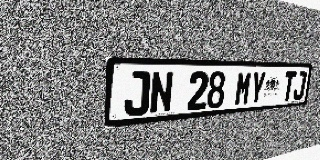2: (187, 71, 209, 111)
8: (206, 71, 227, 109)
J: (124, 71, 151, 117), (292, 72, 307, 100)
M: (234, 71, 253, 106)
N: (149, 71, 174, 114)
T: (281, 72, 297, 101)
Y: (249, 71, 266, 105)
